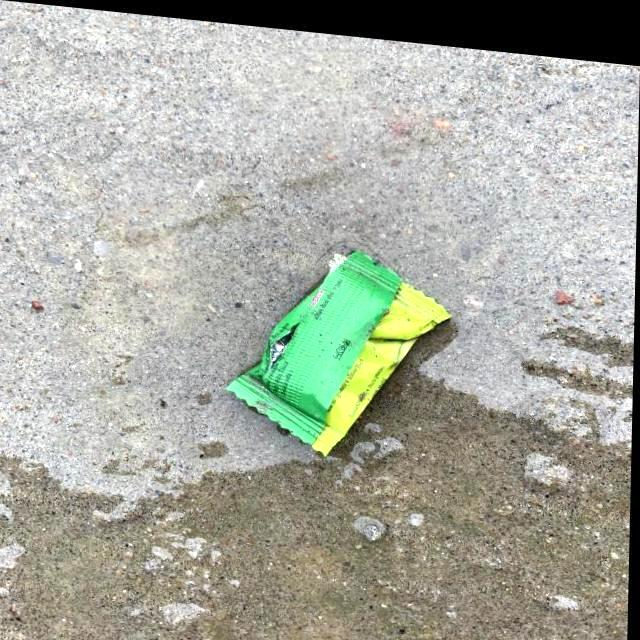packet: (269, 246, 412, 443)
